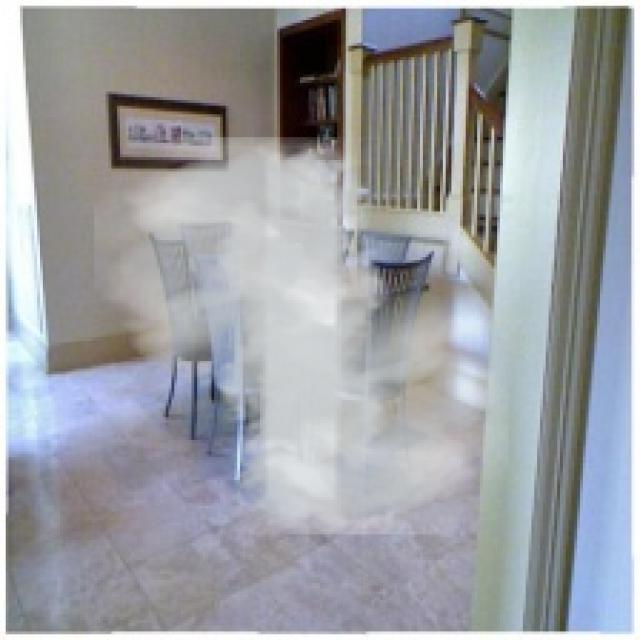Smoke: (94, 137, 509, 534)
